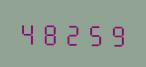eight: (40, 19, 61, 46)
five: (84, 20, 105, 47)
four: (18, 19, 39, 46)
nine: (106, 20, 127, 47)
two: (62, 19, 83, 47)
